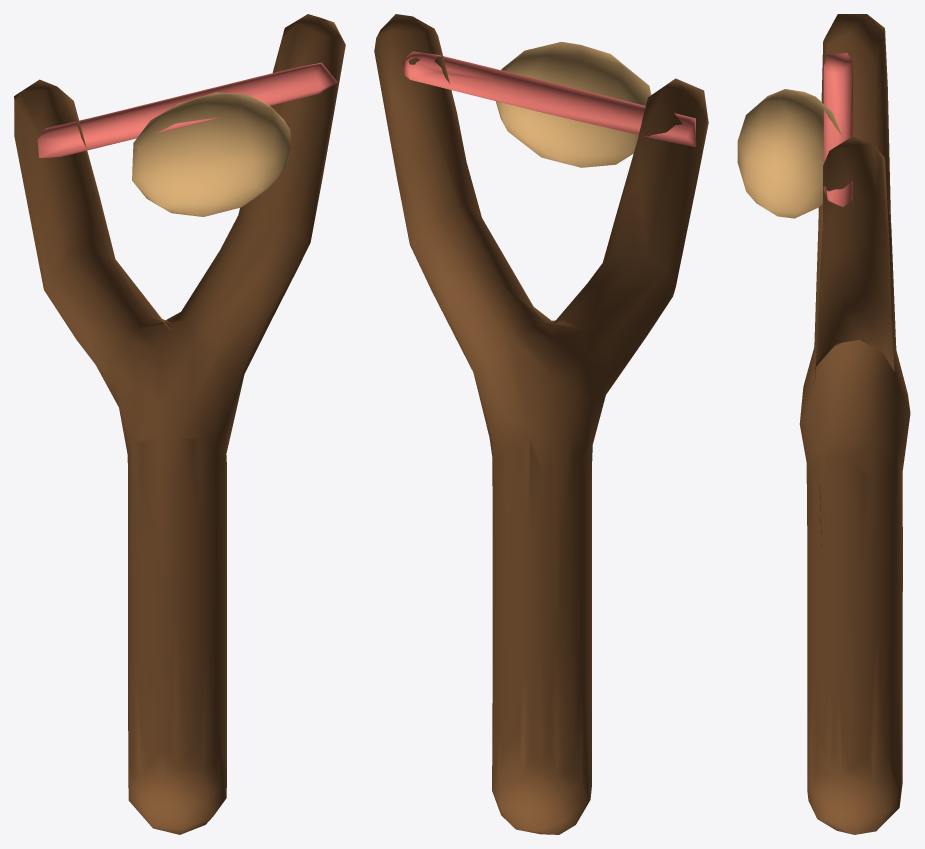
Rendered from wpn_ellie_fawn.glb.
3 views of the same model, side by side, from view 1: azimuth 30°, elevation 25°; view 2: azimuth 150°, elevation 25°; view 3: azimuth 270°, elevation 25° (orthographic). The views are drawn at different scales.
Parts seen in each view (by area): view 1: body; view 2: body; view 3: body.
Part boxes in pixels (x1=…): body: x1=14, y1=14, x2=345, y2=834; body: x1=374, y1=14, x2=708, y2=834; body: x1=737, y1=14, x2=910, y2=834.
Bounding box in the file's own units: 0.6777 × 1.55 × 0.3216.
Materials: 1 (1 with a texture image).
